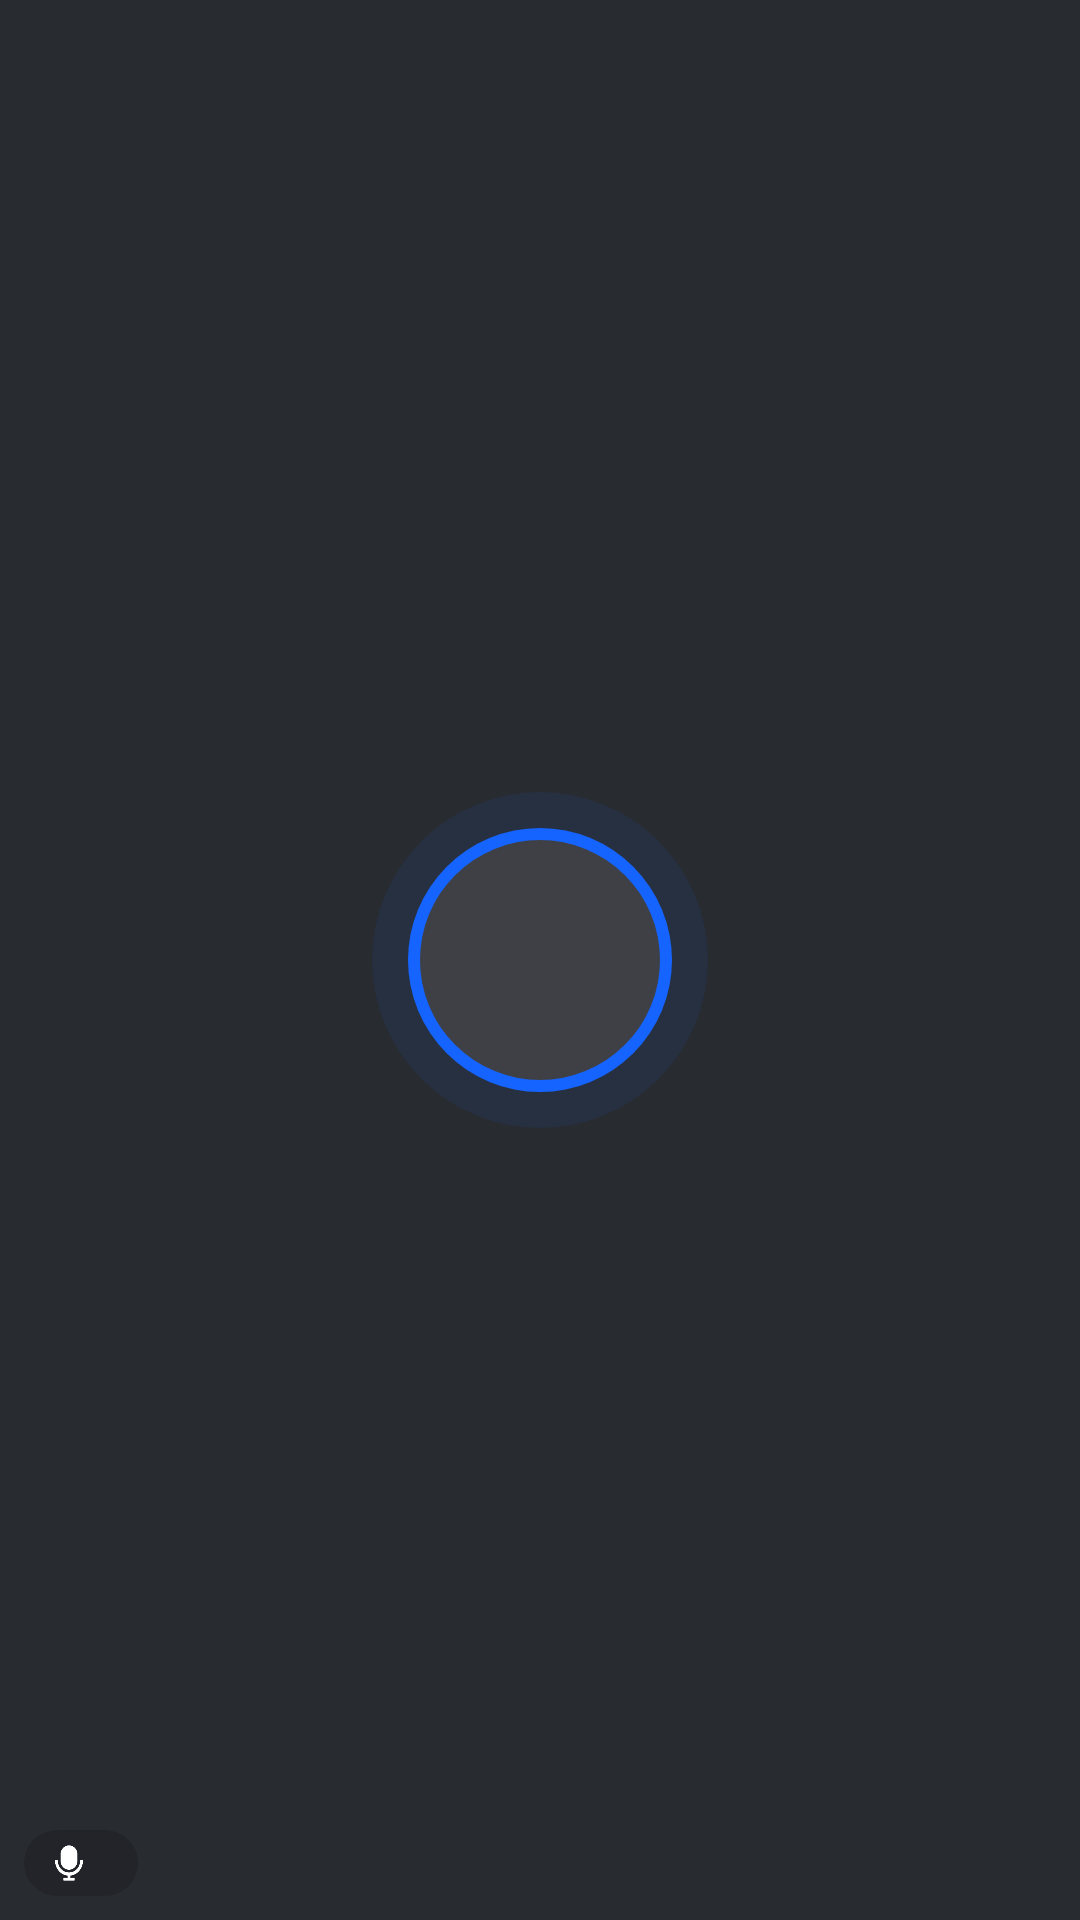

Icons on this 1080×1920 Android screen, each with the point to tap as (x=x, y=y):
microphone enable: (x=69, y=1863)
